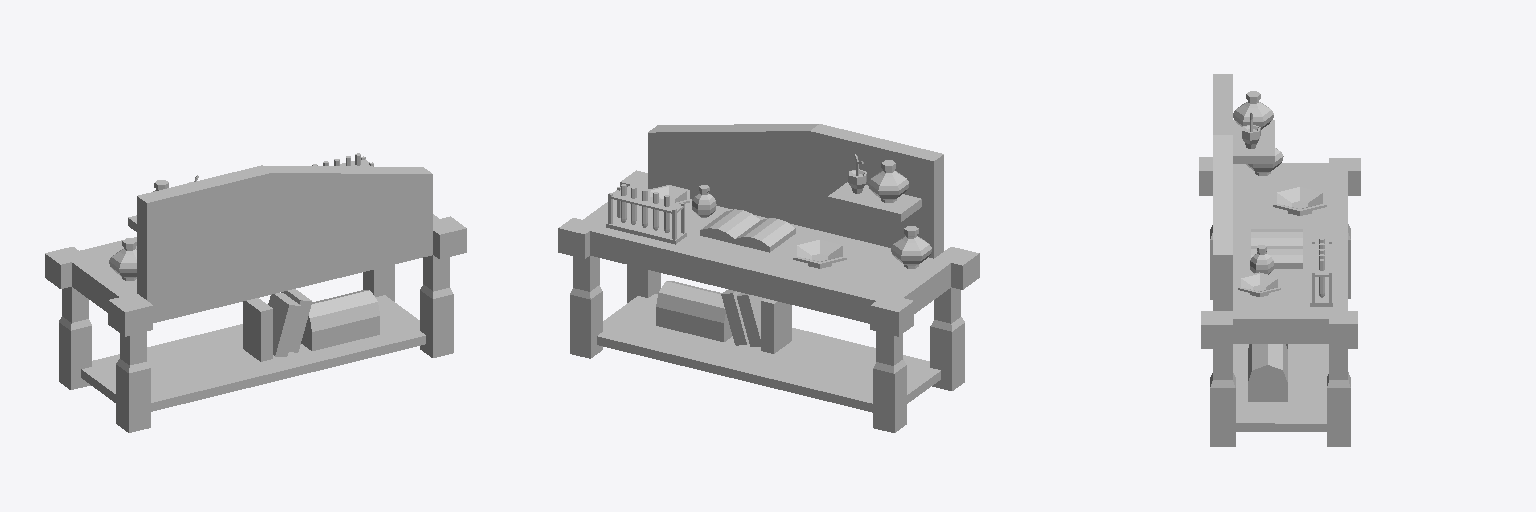
Rendered from desk.obj.
3 views of the same model, side by side, from view 1: azimuth 30°, elevation 25°; view 2: azimuth 150°, elevation 25°; view 3: azimuth 270°, elevation 25° (orthographic).
Visible parts, largest first — view 1: Cube; view 2: Cube; view 3: Cube.
Part boxes in pixels (x1,y1,x2,y2): Cube: (45, 153, 466, 432); Cube: (558, 124, 979, 432); Cube: (1199, 74, 1360, 446).
Bounding box in the file's own units: 2.8 × 1.75 × 1.14.